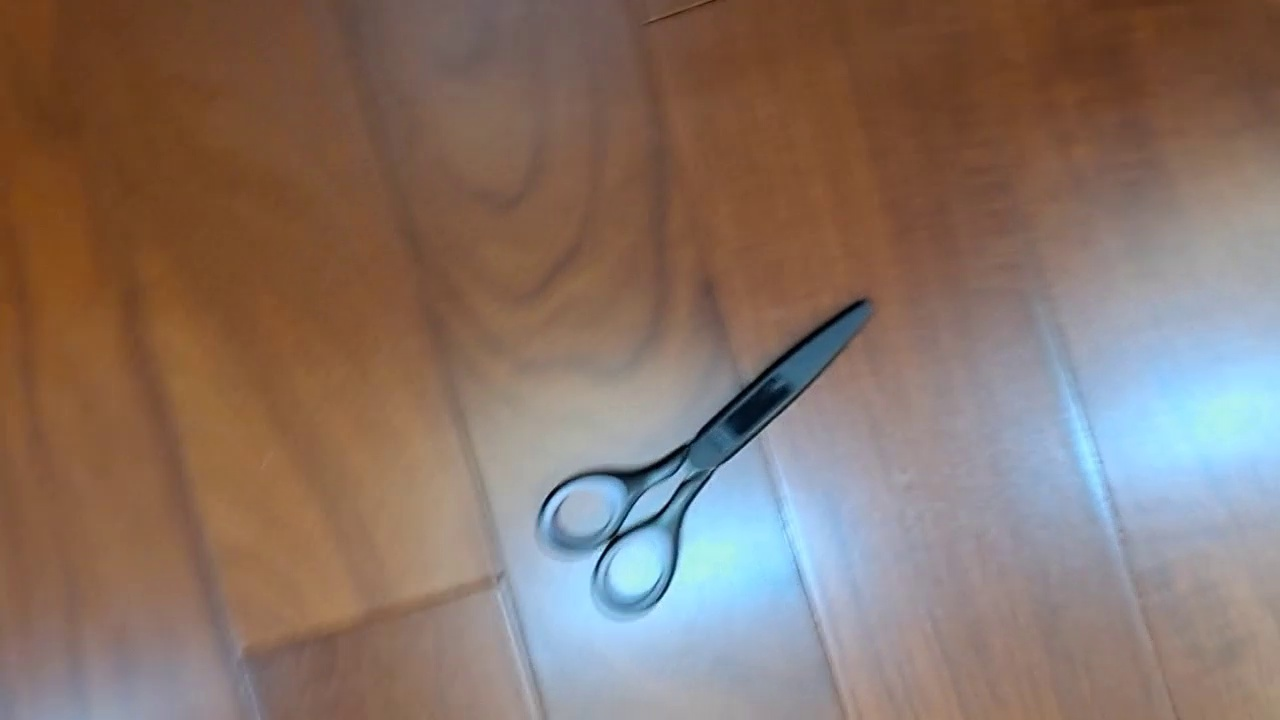scissors: (534, 295, 879, 623)
